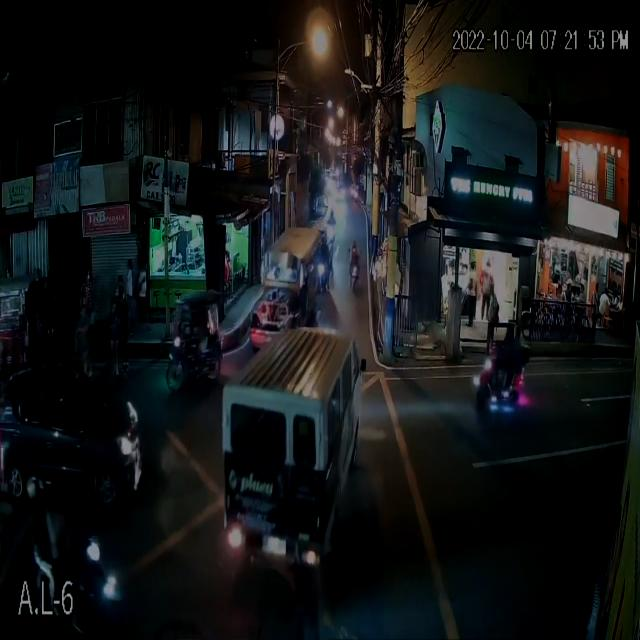Full-Faced: (42, 474, 64, 506), (21, 469, 43, 498), (504, 322, 516, 341)
